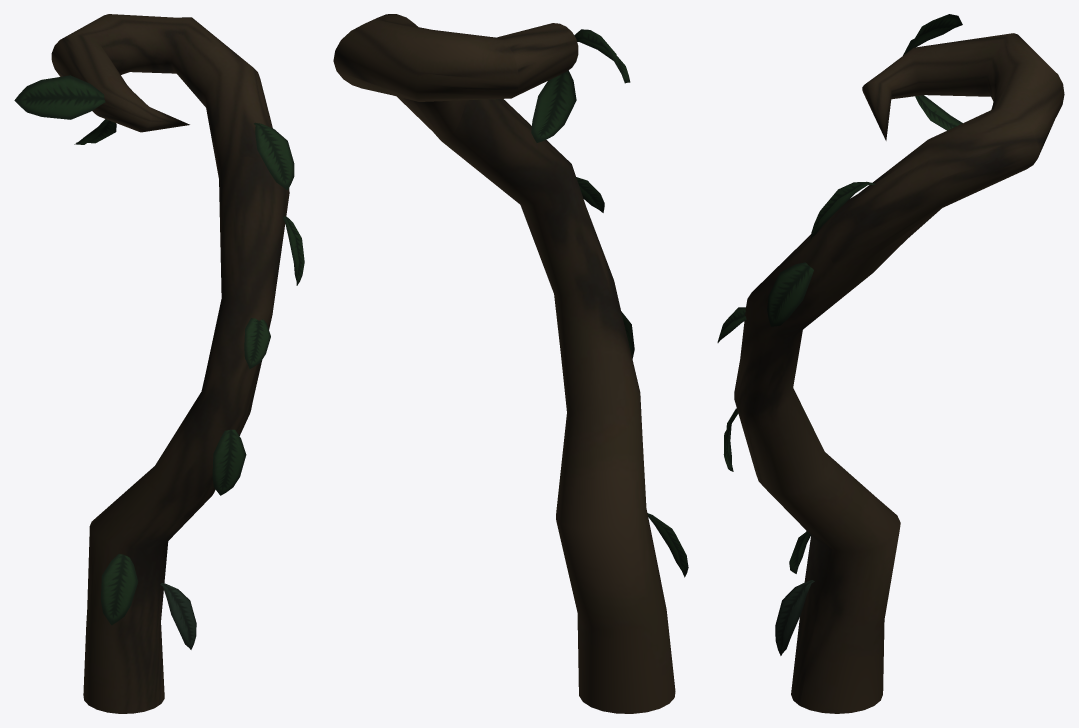
The model's file is raiz2.fbx.
3 views of the same model, side by side, from view 1: azimuth 30°, elevation 25°; view 2: azimuth 150°, elevation 25°; view 3: azimuth 270°, elevation 25° (orthographic). The views are drawn at different scales.
Parts seen in each view (by area): view 1: polySurface64, pPlane37, pPlane31, pPlane29, pPlane15, pPlane16, pPlane23, pPlane30, pPlane26; view 2: polySurface64, pPlane26, pPlane37, pPlane31; view 3: polySurface64, pPlane30, pPlane16, pPlane29, pPlane37, pPlane26.
Part boxes in pixels (x1,y1,x2,y2): polySurface64: (51,14,289,713); pPlane37: (14,75,105,119); pPlane31: (100,554,138,625); pPlane29: (254,122,294,190); pPlane15: (212,429,246,495); pPlane16: (160,583,196,649); pPlane23: (244,318,270,368); pPlane30: (282,216,304,285); pPlane26: (74,119,116,144); polySurface64: (333,14,675,713); pPlane26: (531,70,576,142); pPlane37: (574,29,630,83); pPlane31: (647,513,688,577); polySurface64: (734,33,1064,713); pPlane30: (767,262,813,326); pPlane16: (775,580,814,655); pPlane29: (810,181,875,239); pPlane37: (903,14,962,55); pPlane26: (915,95,962,130).
Bounding box in the file's own units: 33.15 × 81.42 × 37.93.
2 materials, 2 textured.
